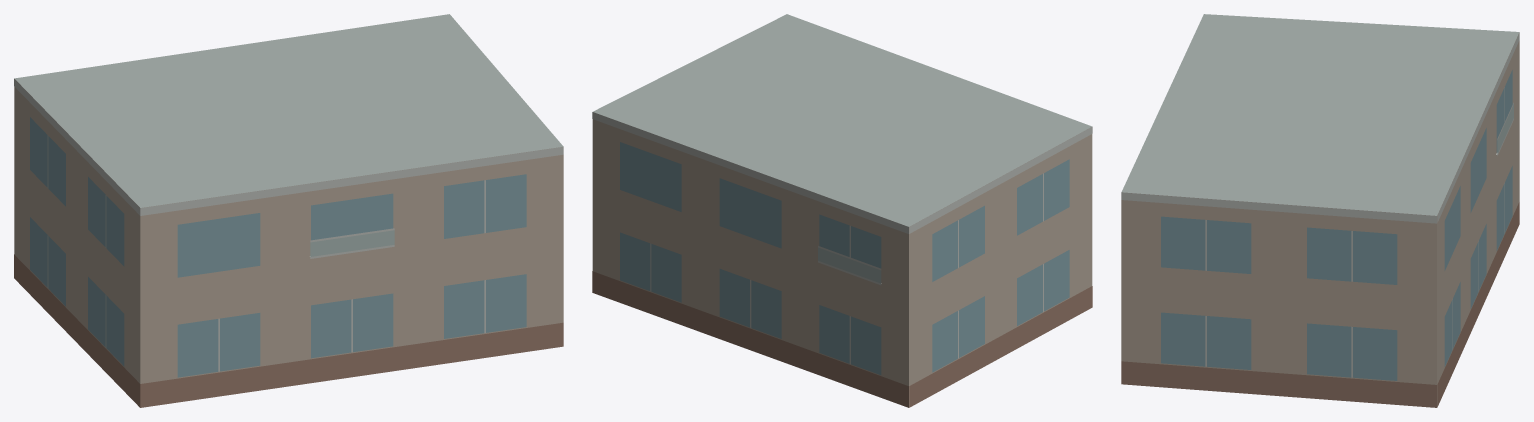
File: survey-upis-32870778.glb
The picture shows the model from 3 angles, left to right: view 1: azimuth 30°, elevation 25°; view 2: azimuth 150°, elevation 25°; view 3: azimuth 270°, elevation 25°; orthographic projection. The views are drawn at different scales.
Parts seen in each view (by area): view 1: survey-upis-32870778.tmp; view 2: survey-upis-32870778.tmp; view 3: survey-upis-32870778.tmp.
Boxes of the visible parts, bbox=[...] form: survey-upis-32870778.tmp: bbox=[14, 14, 563, 407]; survey-upis-32870778.tmp: bbox=[592, 14, 1092, 407]; survey-upis-32870778.tmp: bbox=[1121, 14, 1519, 407].
Size of the model in its own units: 13.77 by 6.1 by 11.48.
